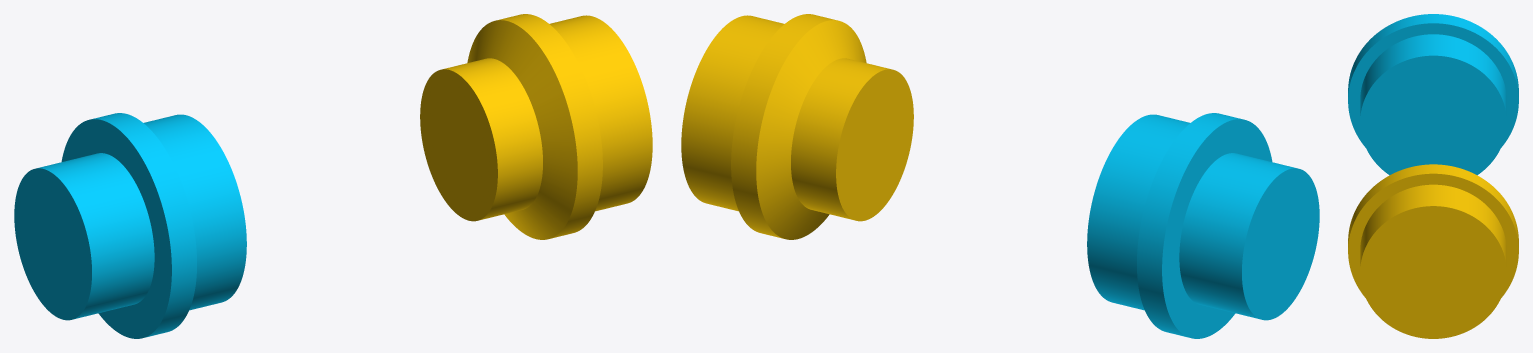
The model's file is roundNX.glb.
3 views of the same model, side by side, from view 1: azimuth 30°, elevation 25°; view 2: azimuth 150°, elevation 25°; view 3: azimuth 270°, elevation 25° (orthographic). The views are drawn at different scales.
Parts seen in each view (by area): view 1: 001_000001_00_W_drehteileHOWtoLecture6; view 2: 001_000001_00_W_drehteileHOWtoLecture6; view 3: 001_000001_00_W_drehteileHOWtoLecture6.
Part boxes in pixels (left/top/right/bottom): 001_000001_00_W_drehteileHOWtoLecture6: left=14, top=14, right=652, bottom=338; 001_000001_00_W_drehteileHOWtoLecture6: left=681, top=14, right=1319, bottom=338; 001_000001_00_W_drehteileHOWtoLecture6: left=1348, top=14, right=1518, bottom=338.
Size of the model in its own units: 0.6791 by 0.24 by 0.24.
